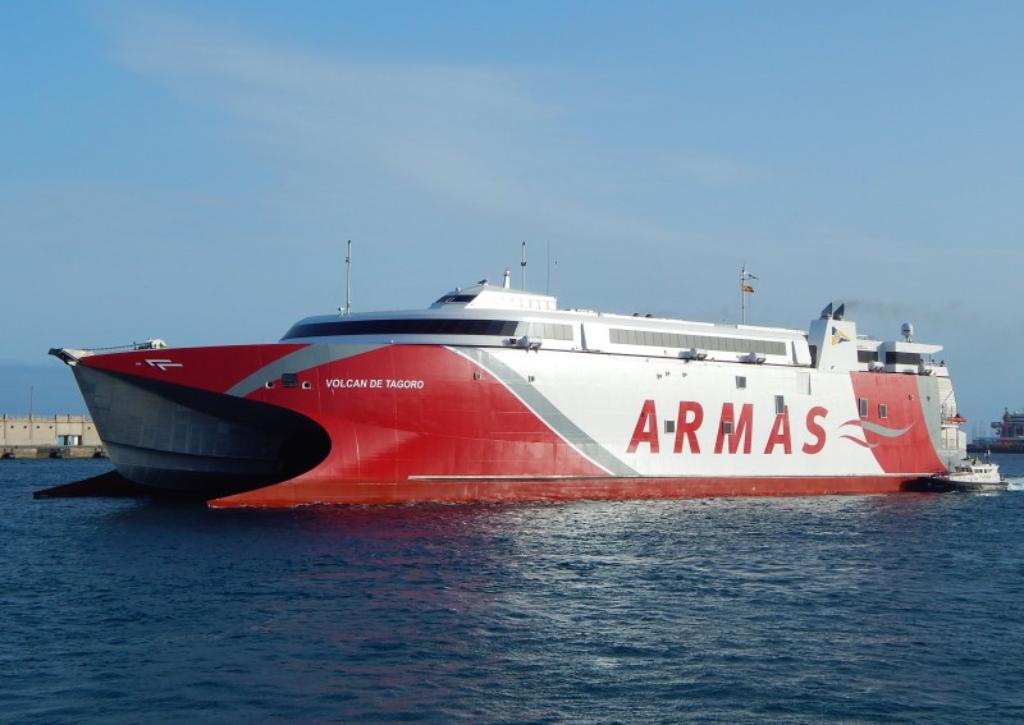PassengerShip: (44, 280, 972, 514)
